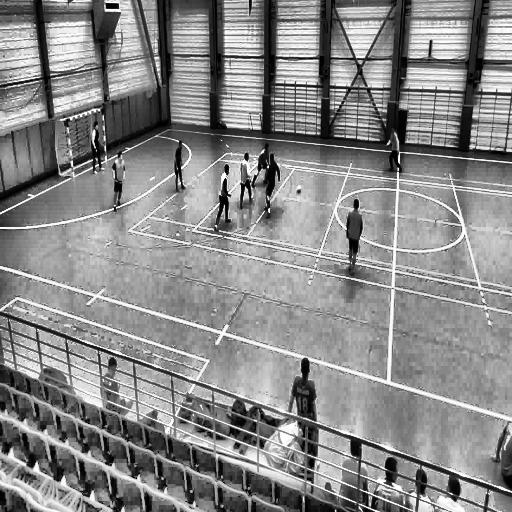ball: (296, 184, 303, 194)
player: (345, 197, 363, 276), (261, 150, 281, 219), (212, 163, 232, 230), (112, 151, 126, 212), (386, 125, 402, 176), (173, 139, 188, 193), (239, 152, 252, 211), (253, 140, 268, 187), (91, 121, 104, 173)
